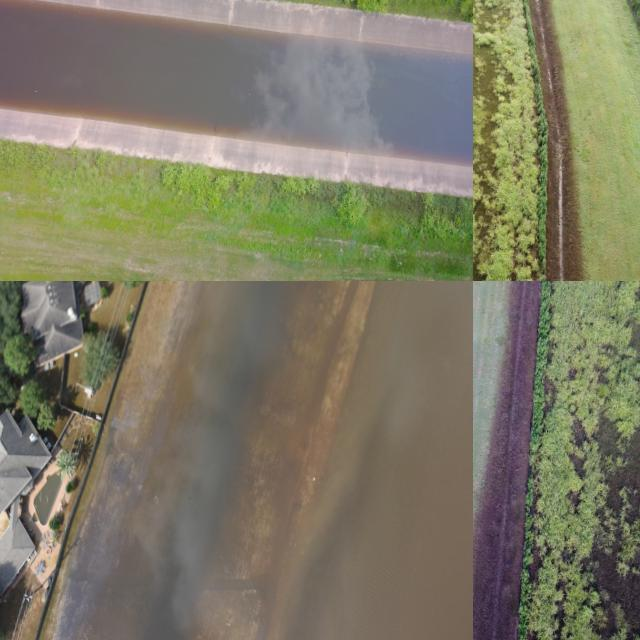fire: (41, 281, 473, 640), (0, 0, 473, 165)
